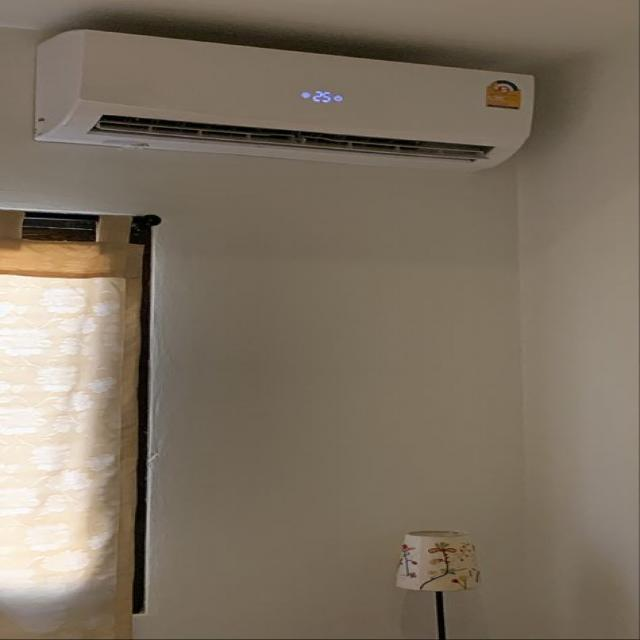AC: (32, 28, 536, 172)
